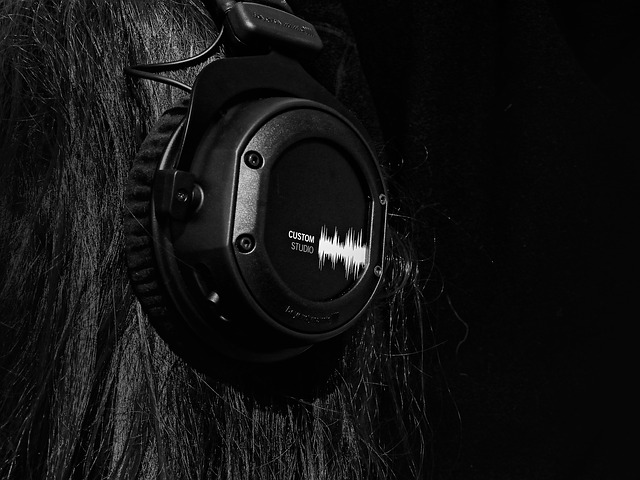headphones: (125, 1, 388, 376)
